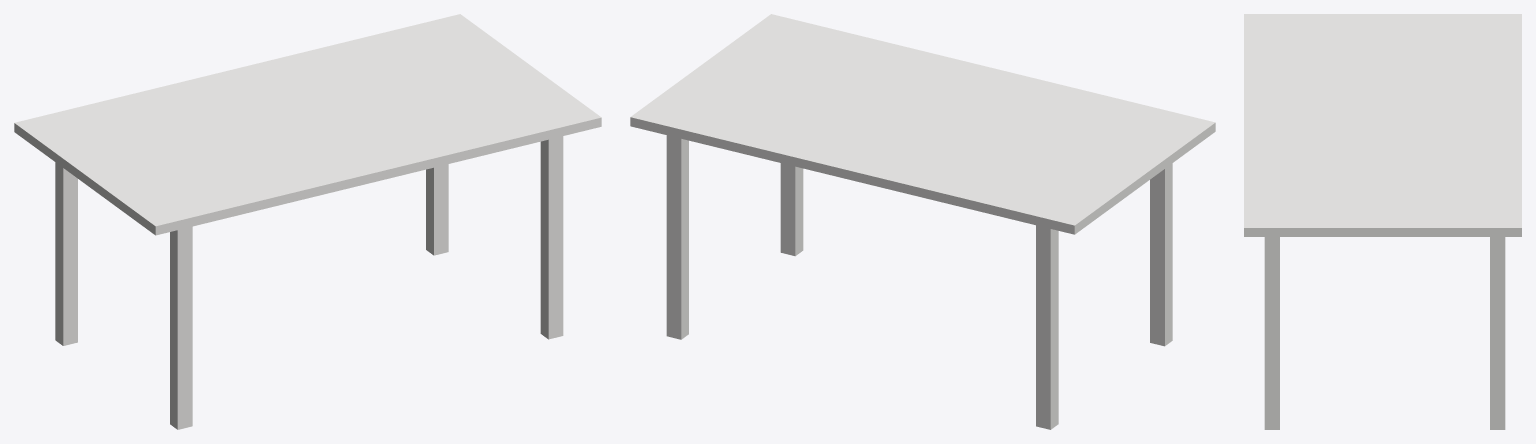
File: Table_6.fbx
3 views of the same model, side by side, from view 1: azimuth 30°, elevation 25°; view 2: azimuth 150°, elevation 25°; view 3: azimuth 270°, elevation 25° (orthographic).
Parts seen in each view (by area): view 1: Table_6; view 2: Table_6; view 3: Table_6.
Part boxes in pixels (x1,y1,x2,y2): Table_6: [14, 14, 601, 429]; Table_6: [630, 14, 1215, 429]; Table_6: [1244, 14, 1521, 429].
Bounding box in the file's own units: 227 × 125 × 107.
